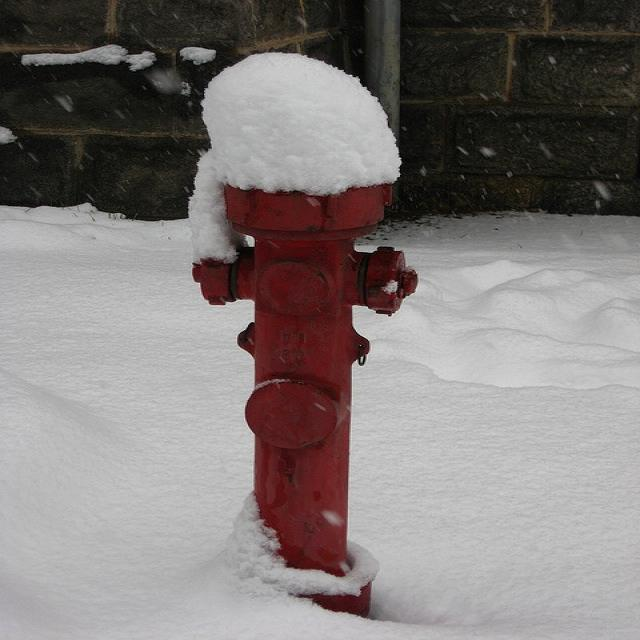fire_hydrant: (188, 182, 419, 612)
